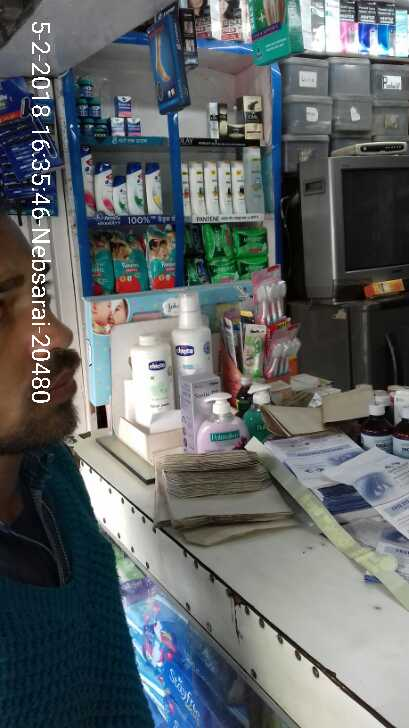vicks: (69, 70, 143, 139)
